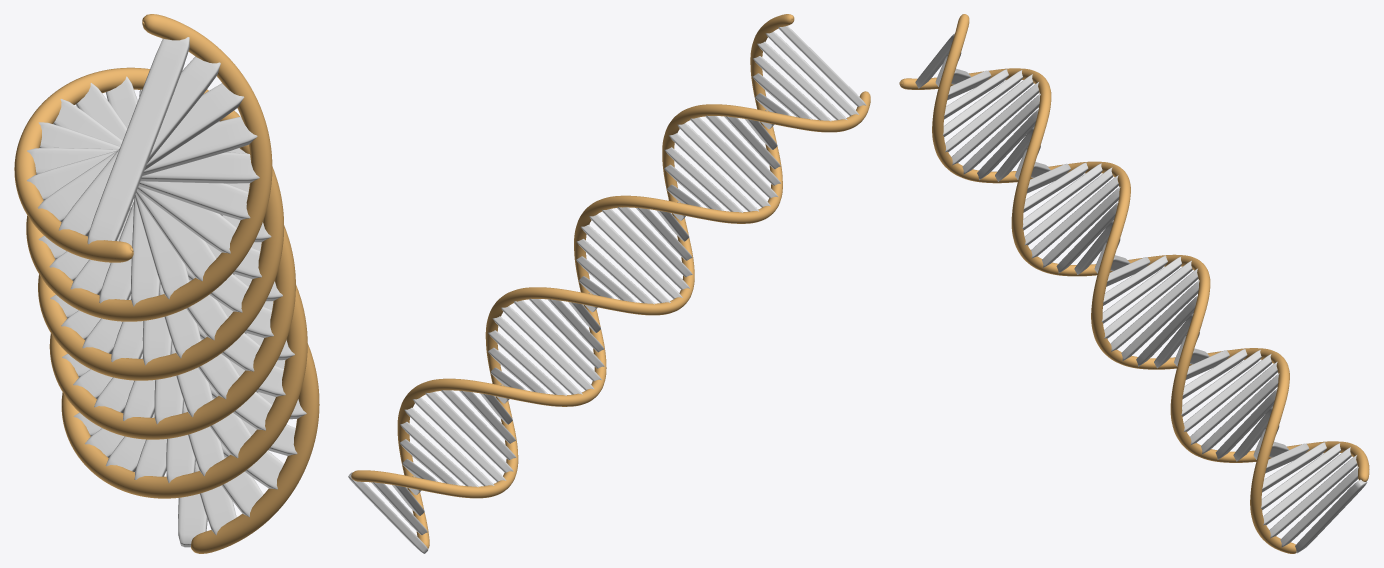
File: dna.glb
The picture shows the model from 3 angles, left to right: view 1: azimuth 30°, elevation 25°; view 2: azimuth 150°, elevation 25°; view 3: azimuth 270°, elevation 25°; orthographic projection. The views are drawn at different scales.
Visible parts, largest first — view 1: Cube_3, Plane_2; view 2: Cube_3, Plane_2; view 3: Cube_3, Plane_2.
Boxes of the visible parts, x1,y1,x2,y2 form: Cube_3: [27, 37, 306, 547]; Plane_2: [14, 14, 319, 553]; Cube_3: [348, 26, 866, 553]; Plane_2: [351, 14, 870, 548]; Cube_3: [915, 33, 1367, 553]; Plane_2: [899, 14, 1369, 553].
Bounding box in the file's own units: 2.75 × 3.99 × 3.81.
